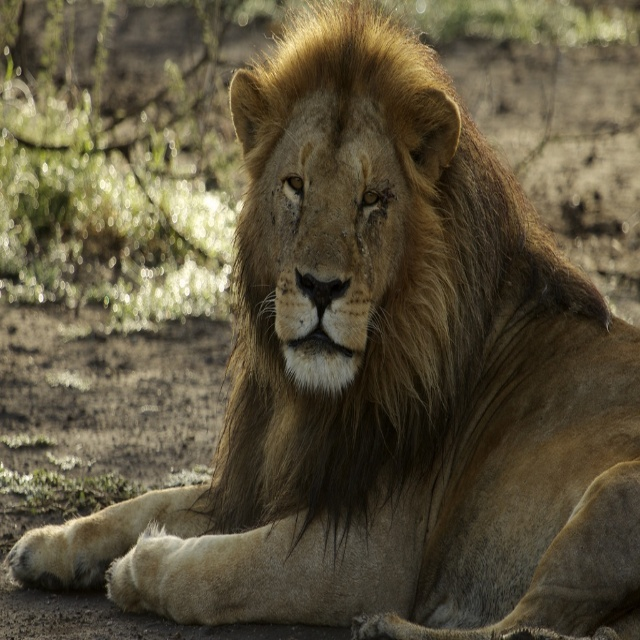Lion: (3, 0, 640, 639)
